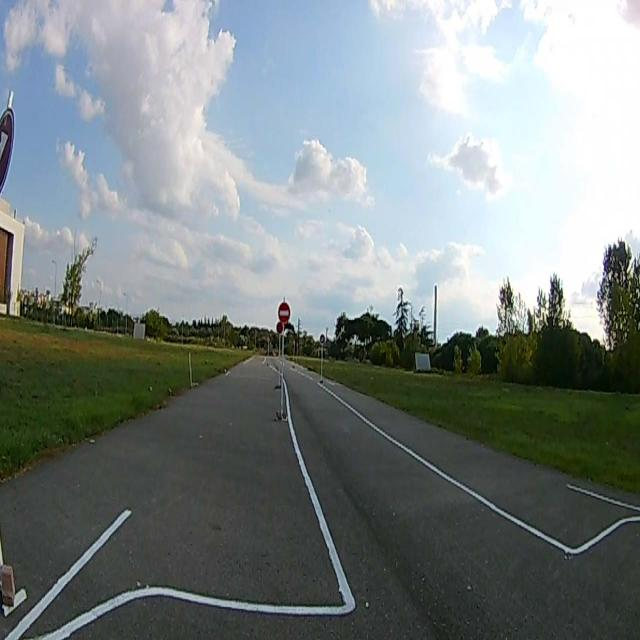girisyok: (277, 304, 290, 324)
